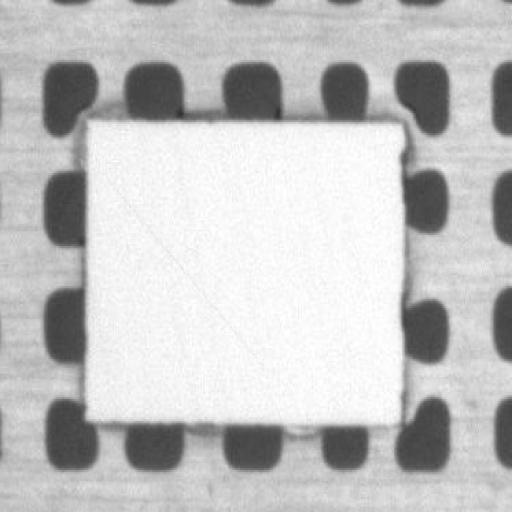DIE_CRACK: (142, 135, 346, 273)
